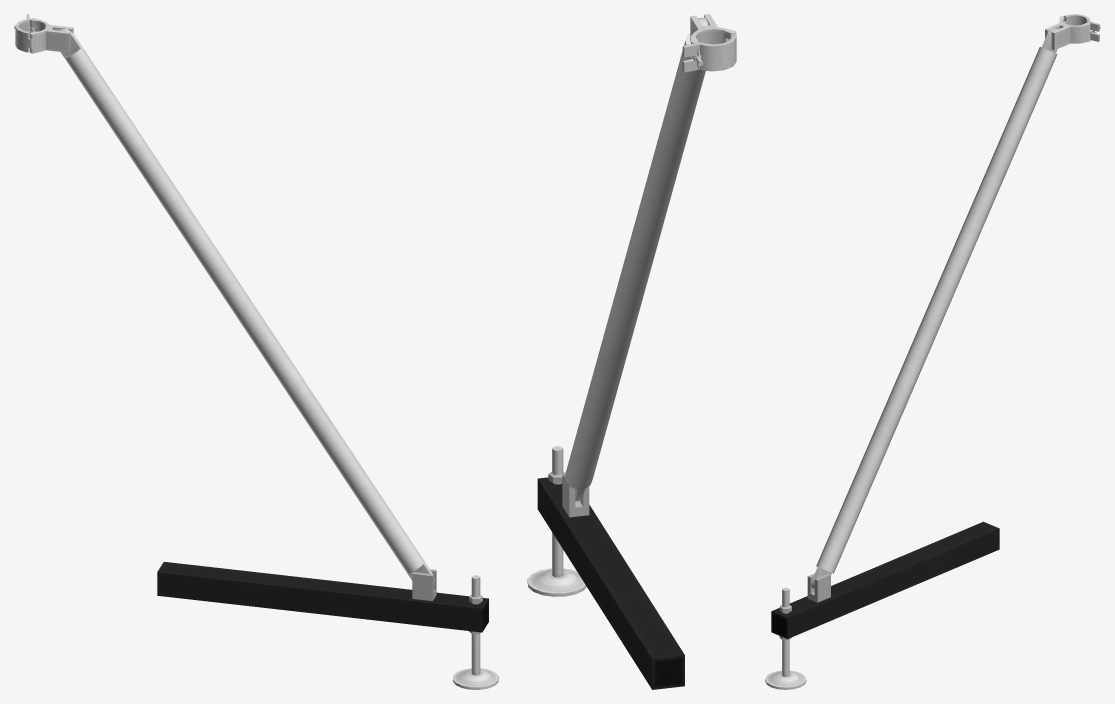
Rendered from SM_Truss_Stand_Leg.fbx.
3 views of the same model, side by side, from view 1: azimuth 30°, elevation 25°; view 2: azimuth 150°, elevation 25°; view 3: azimuth 270°, elevation 25° (orthographic). The views are drawn at different scales.
Parts seen in each view (by area): view 1: SM_Truss_Stand_Leg_LOD0; view 2: SM_Truss_Stand_Leg_LOD0; view 3: SM_Truss_Stand_Leg_LOD0.
Part boxes in pixels (x1,y1,x2,y2): SM_Truss_Stand_Leg_LOD0: (14,14,498,689); SM_Truss_Stand_Leg_LOD0: (527,14,736,689); SM_Truss_Stand_Leg_LOD0: (765,14,1100,689).
Bounding box in the file's own units: 84.37 × 87.04 × 154.
Materials: 1 (1 with a texture image).
